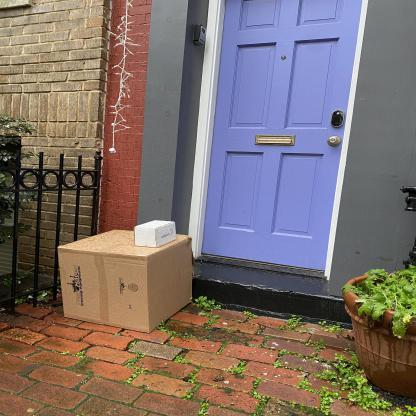package: (55, 227, 196, 335), (129, 217, 178, 249)
